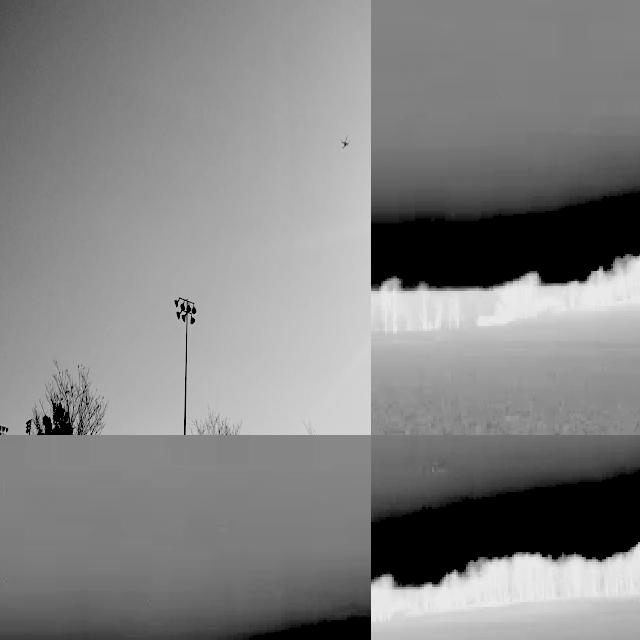0: (428, 460, 456, 492)
drone: (338, 130, 354, 153)
